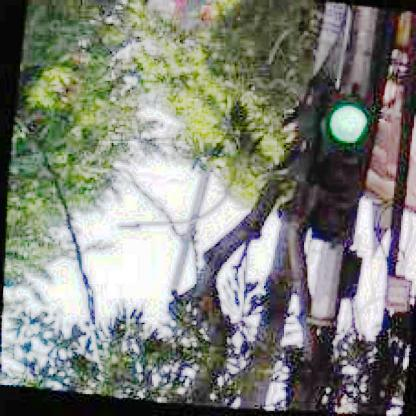Traffic Light -Green-: (309, 93, 369, 248)
